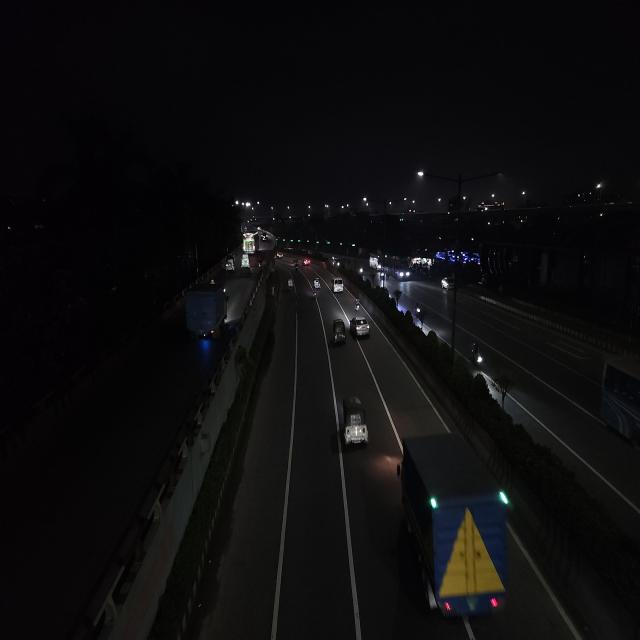bus: (596, 354, 640, 470), (391, 259, 412, 282), (242, 234, 257, 254), (368, 252, 382, 269)
car: (349, 314, 371, 339), (332, 275, 344, 295), (440, 275, 452, 292), (302, 256, 312, 267)
cng: (336, 392, 372, 453), (330, 316, 348, 349), (224, 255, 236, 274), (240, 253, 250, 270), (313, 277, 322, 290)
motorcycle: (468, 336, 488, 375), (412, 302, 423, 325), (352, 295, 362, 312), (310, 289, 319, 301), (257, 259, 263, 271)
pedestrian: (271, 285, 276, 298)
rickshaw: (287, 281, 293, 291)
truck: (394, 425, 516, 631), (184, 282, 229, 342)
